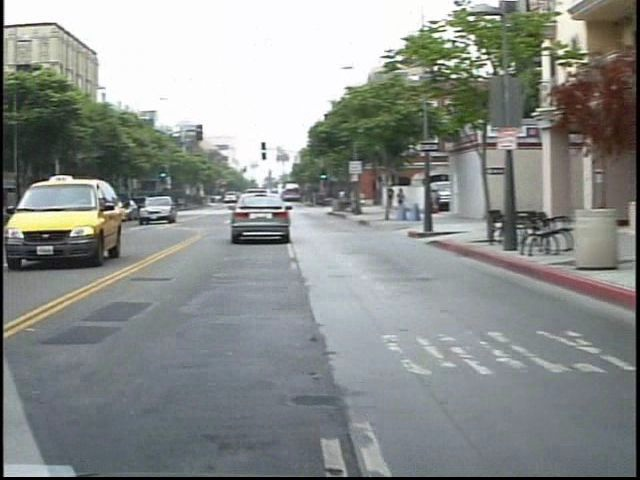person: (384, 186, 399, 221), (322, 186, 339, 215)
